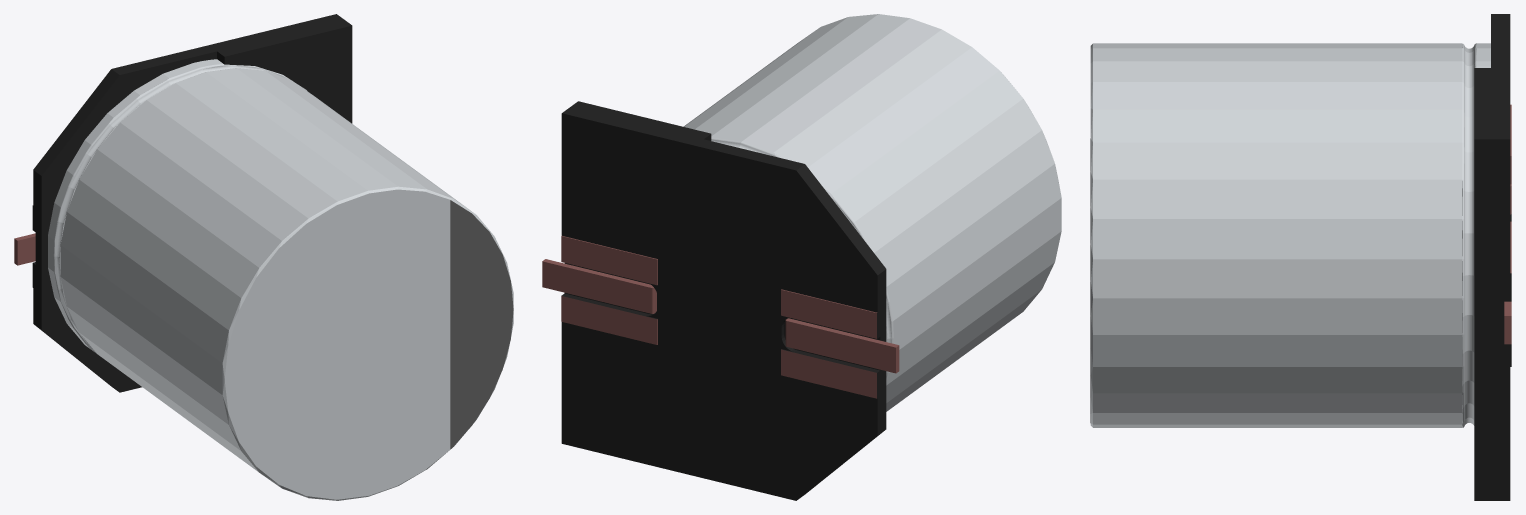
Rendered from Vishay 146 CTI 1616.obj.
The picture shows the model from 3 angles, left to right: view 1: azimuth 30°, elevation 25°; view 2: azimuth 150°, elevation 25°; view 3: azimuth 270°, elevation 25°; orthographic projection. The views are drawn at different scales.
Parts seen in each view (by area): view 1: Vishay_146_CTI_1616; view 2: Vishay_146_CTI_1616; view 3: Vishay_146_CTI_1616.
Part boxes in pixels (x1=…): Vishay_146_CTI_1616: x1=14, y1=14, x2=513, y2=500; Vishay_146_CTI_1616: x1=542, y1=14, x2=1061, y2=500; Vishay_146_CTI_1616: x1=1090, y1=14, x2=1511, y2=500.
Size of the model in its own units: 0.0265 by 0.0236 by 0.0249.
